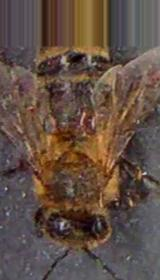varroa_mite: (70, 106, 106, 134)
